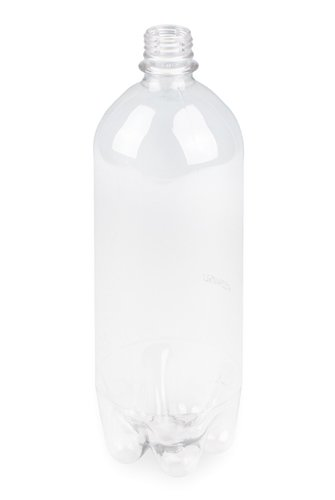plastic_bottle: (89, 23, 247, 472)
